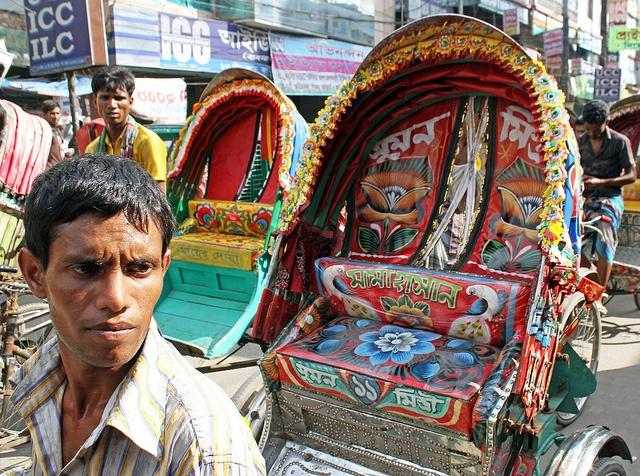Rickshaw: (241, 15, 632, 475), (155, 68, 307, 357)
